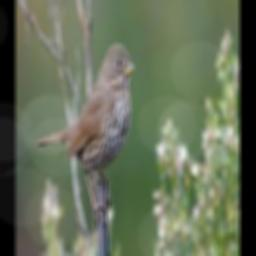Sparrow: (35, 42, 134, 231)
